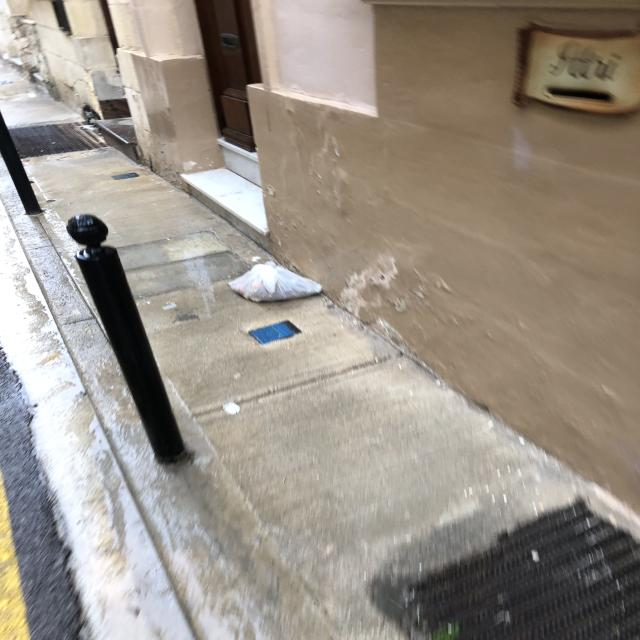Organic Waste -White Bag-: (231, 260, 324, 304)
